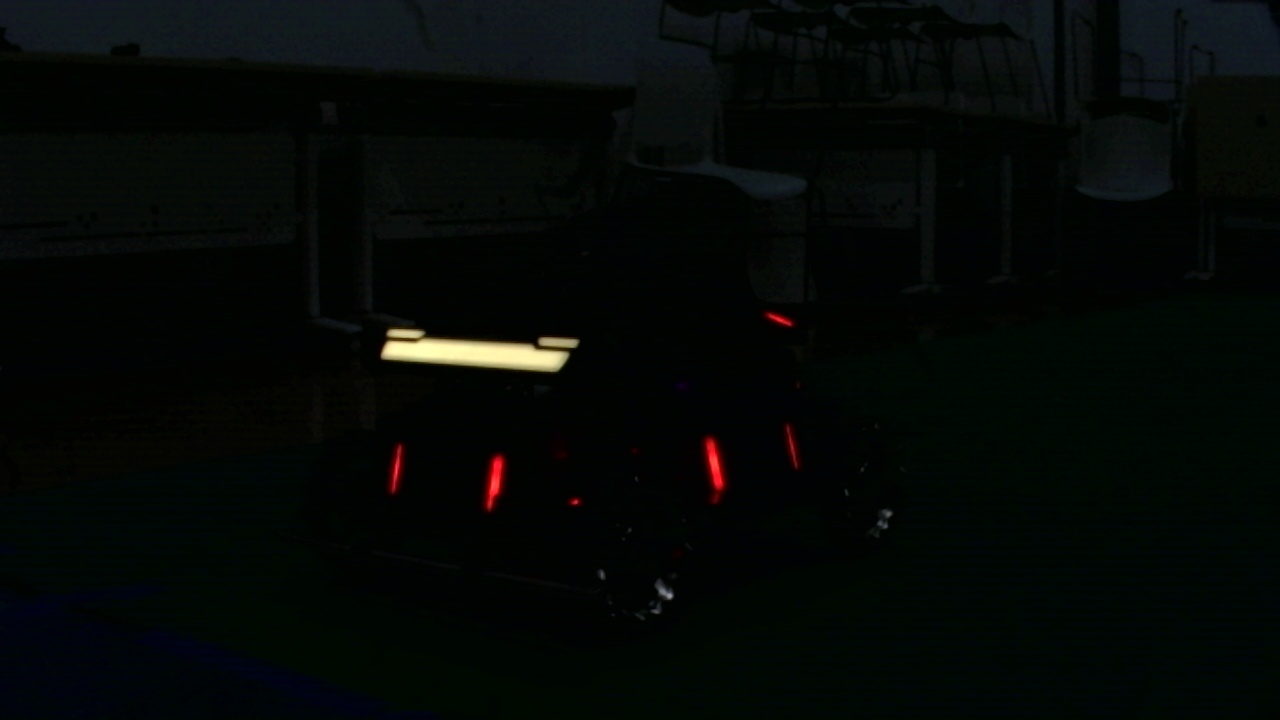lamp: (704, 429, 729, 498), (379, 441, 407, 501), (482, 450, 507, 510)
notpair1: (484, 430, 730, 516)
pair1: (382, 444, 507, 509)
